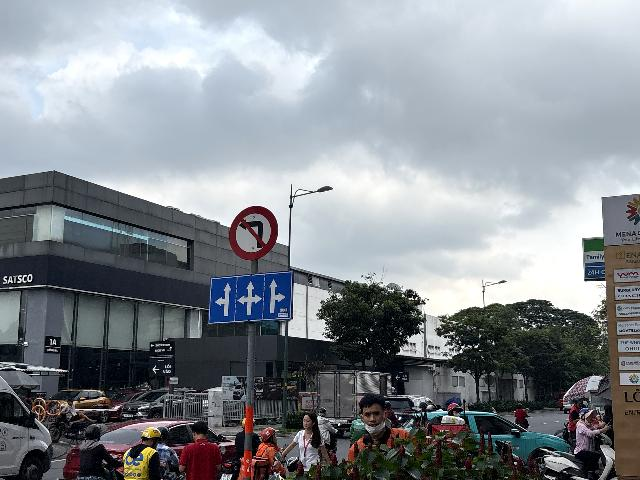cam-re-trai: (229, 205, 279, 260)
